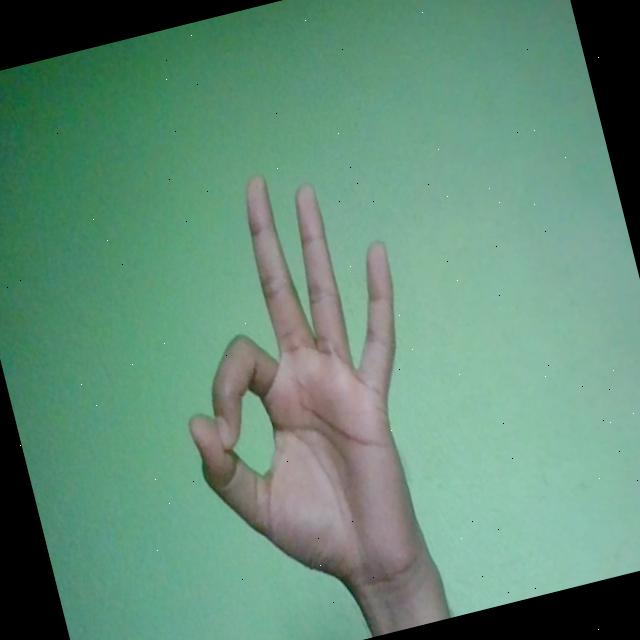Rock On: (132, 147, 466, 627)
